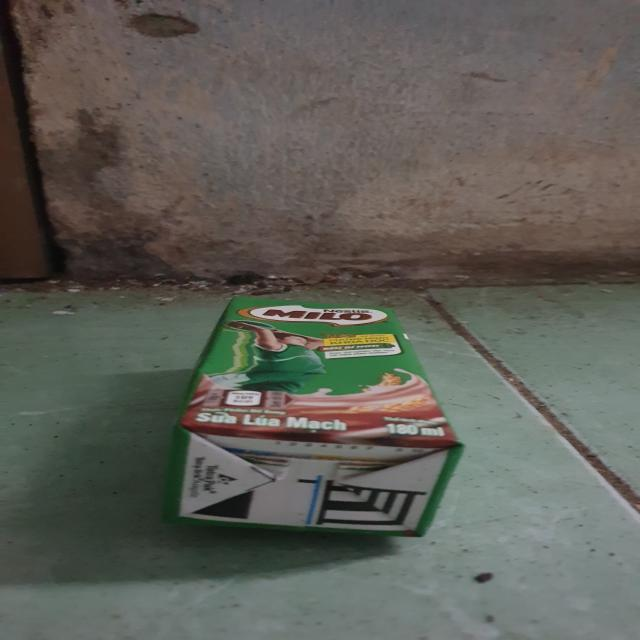Milo: (164, 297, 471, 539)
